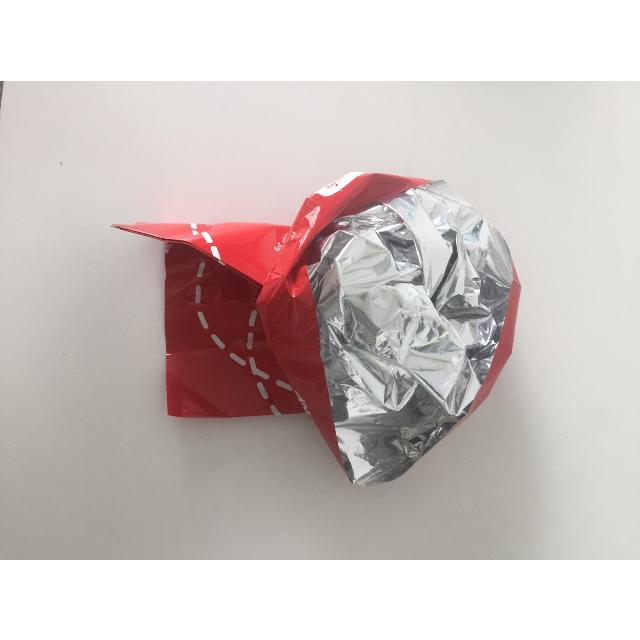Paquete de plastico: (115, 174, 518, 485)
